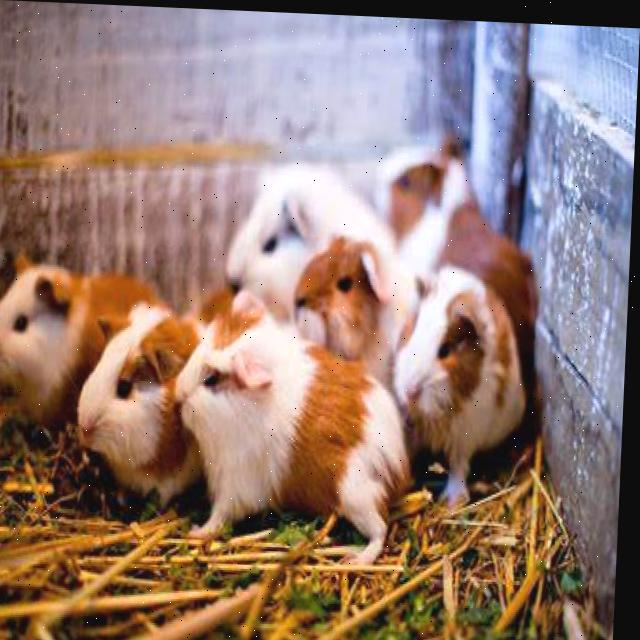guinea pig: (174, 304, 413, 559), (396, 272, 545, 505), (79, 294, 215, 501), (0, 248, 167, 379)
